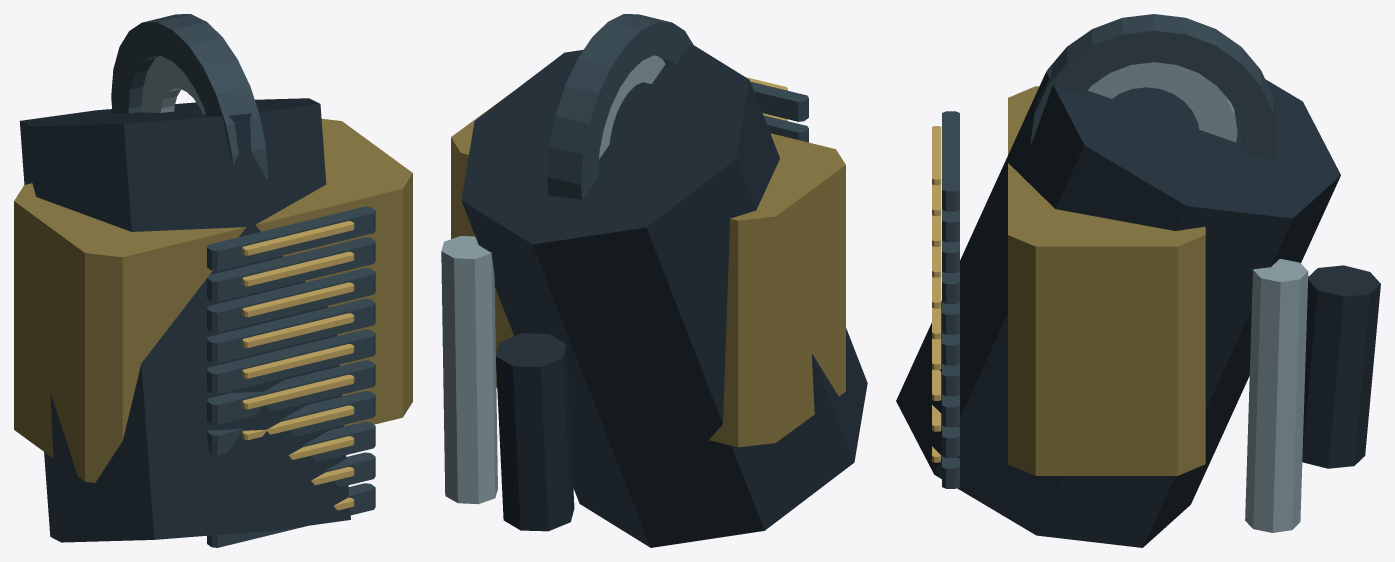
The model's file is enemy_gunner_4k_thigh_l.obj.
3 views of the same model, side by side, from view 1: azimuth 30°, elevation 25°; view 2: azimuth 150°, elevation 25°; view 3: azimuth 270°, elevation 25° (orthographic).
Bounding box in the file's own units: 0.5035 × 0.7033 × 0.6133.
